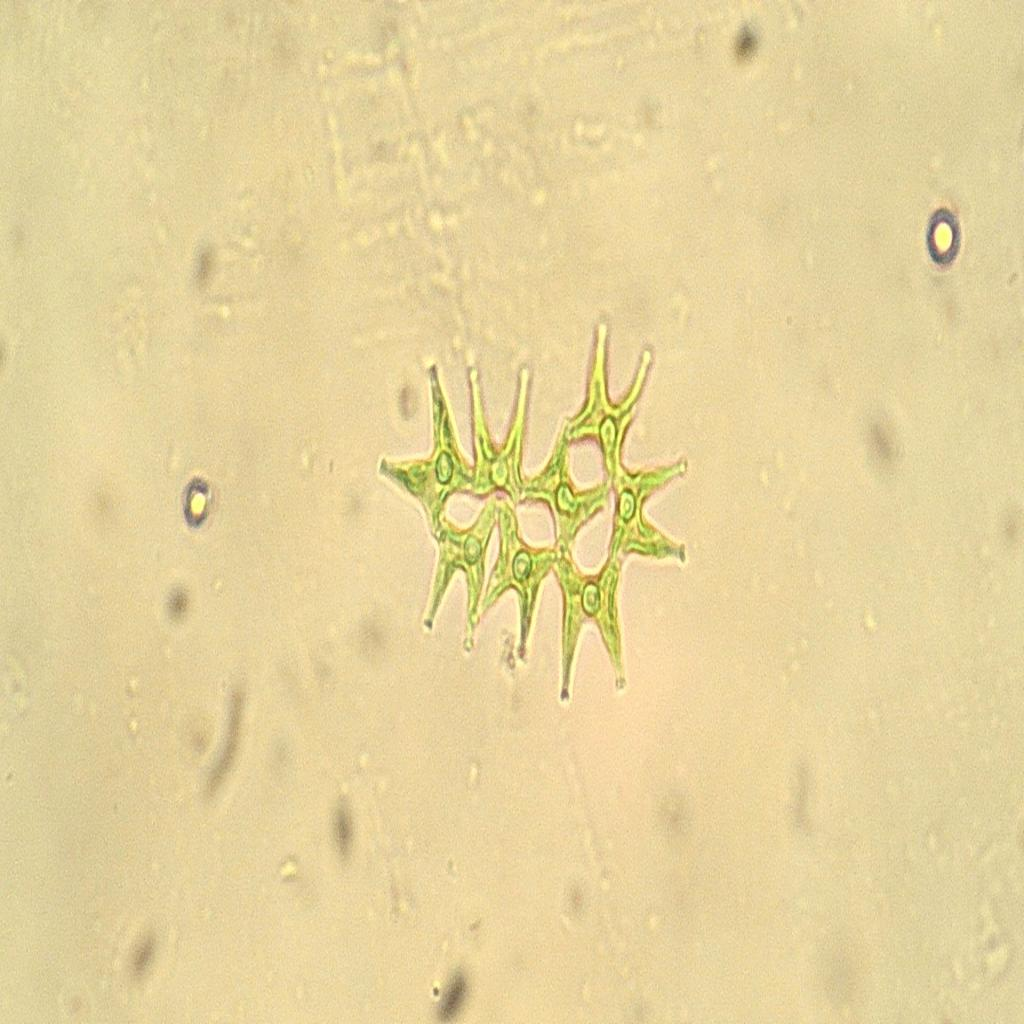Pediastrum_CFI: (364, 308, 706, 730)
